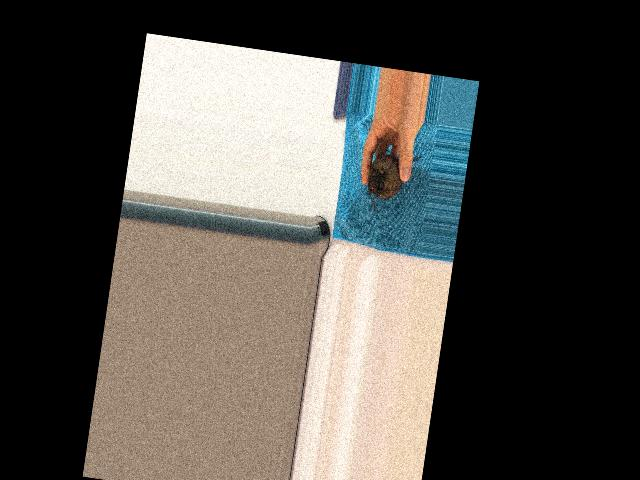beet: (364, 149, 421, 217)
